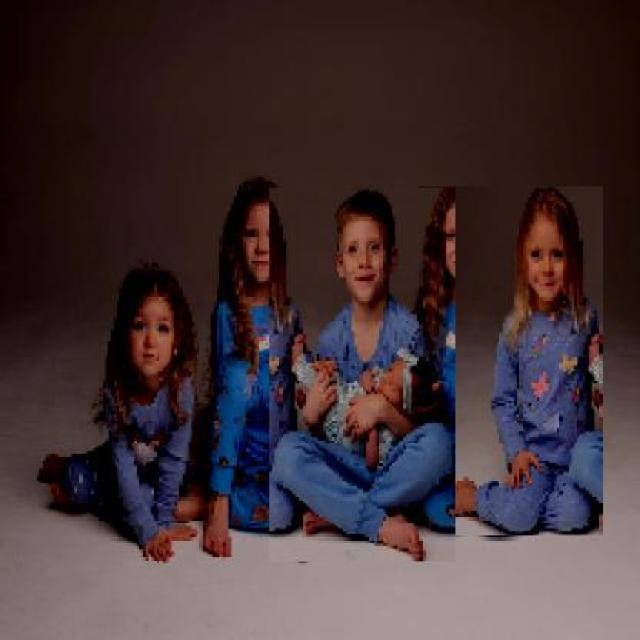child: (268, 188, 455, 563), (417, 186, 603, 537), (37, 264, 200, 562), (202, 176, 307, 558)
